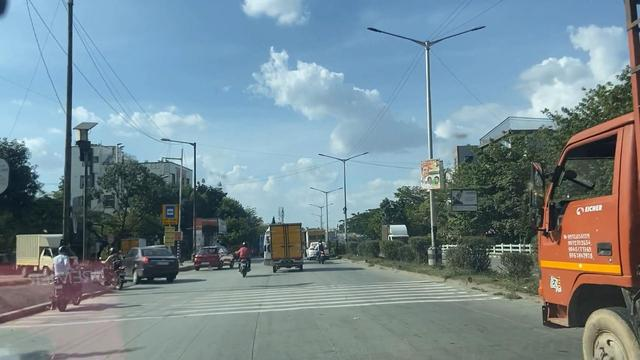HMV: (563, 15, 640, 358), (267, 221, 305, 267)
LMV: (121, 243, 180, 286), (46, 247, 84, 312), (195, 244, 233, 273), (101, 244, 126, 286), (239, 243, 255, 277)
SpeedBump: (84, 287, 469, 306)
